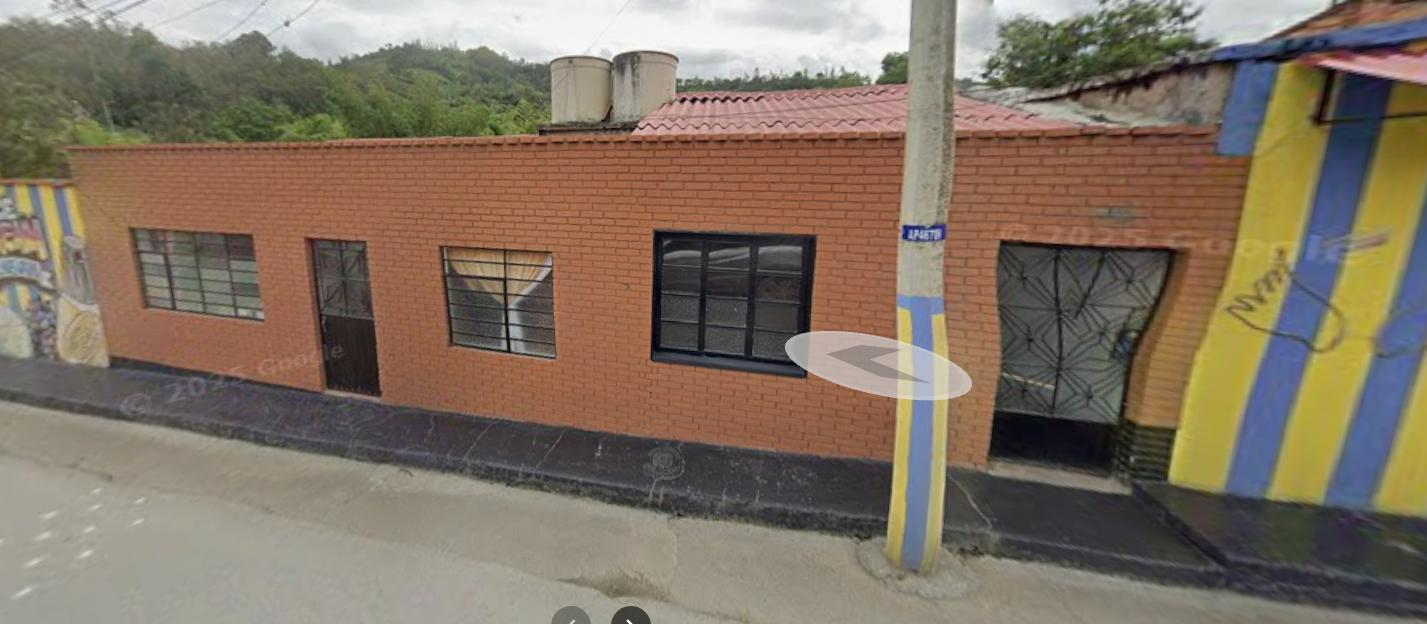casa: (72, 133, 903, 460), (946, 129, 1247, 479)
poste: (893, 0, 957, 387), (884, 377, 949, 573)
